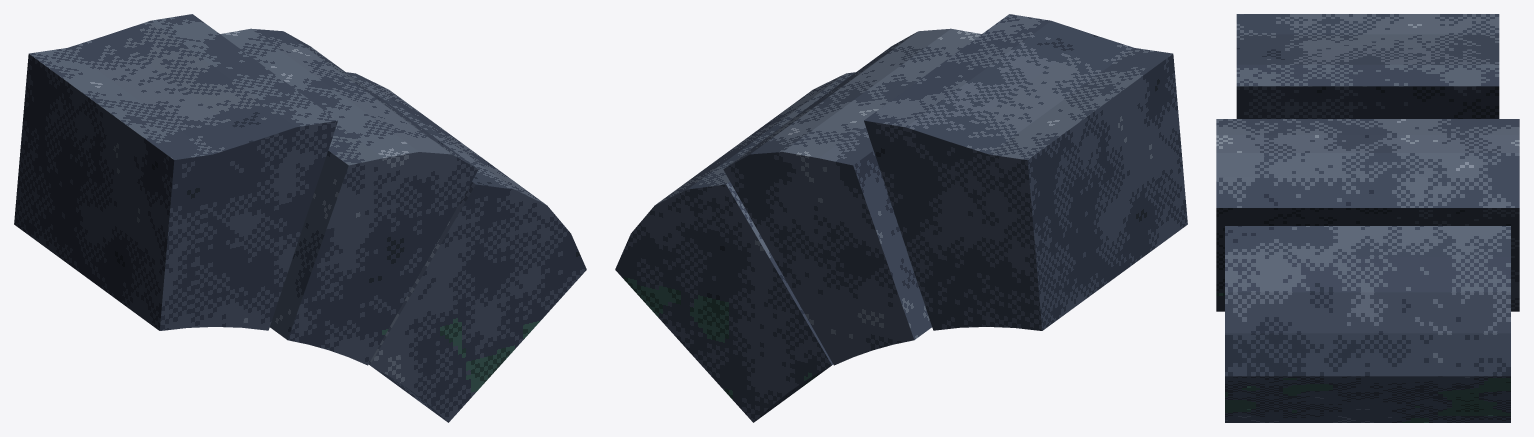
The model's file is SM_Prop_GalleryArchFragment_01.glb.
The picture shows the model from 3 angles, left to right: view 1: azimuth 30°, elevation 25°; view 2: azimuth 150°, elevation 25°; view 3: azimuth 270°, elevation 25°; orthographic projection. The views are drawn at different scales.
Parts seen in each view (by area): view 1: stone_arch_2, stone_arch_1, stone_arch_0; view 2: stone_arch_2, stone_arch_1, stone_arch_0; view 3: stone_arch_0, stone_arch_1, stone_arch_2.
Boxes of the visible parts, <box> form: stone_arch_2: <box>14,14,337,330</box>; stone_arch_1: <box>220,28,478,365</box>; stone_arch_0: <box>346,72,586,422</box>; stone_arch_2: <box>864,14,1187,330</box>; stone_arch_1: <box>723,28,981,365</box>; stone_arch_0: <box>615,72,855,422</box>; stone_arch_0: <box>1225,226,1510,422</box>; stone_arch_1: <box>1216,119,1519,311</box>; stone_arch_2: <box>1236,14,1499,118</box>.
Size of the model in its own units: 0.7504 by 0.5565 by 0.52.
Materials: 1 (1 with a texture image).
